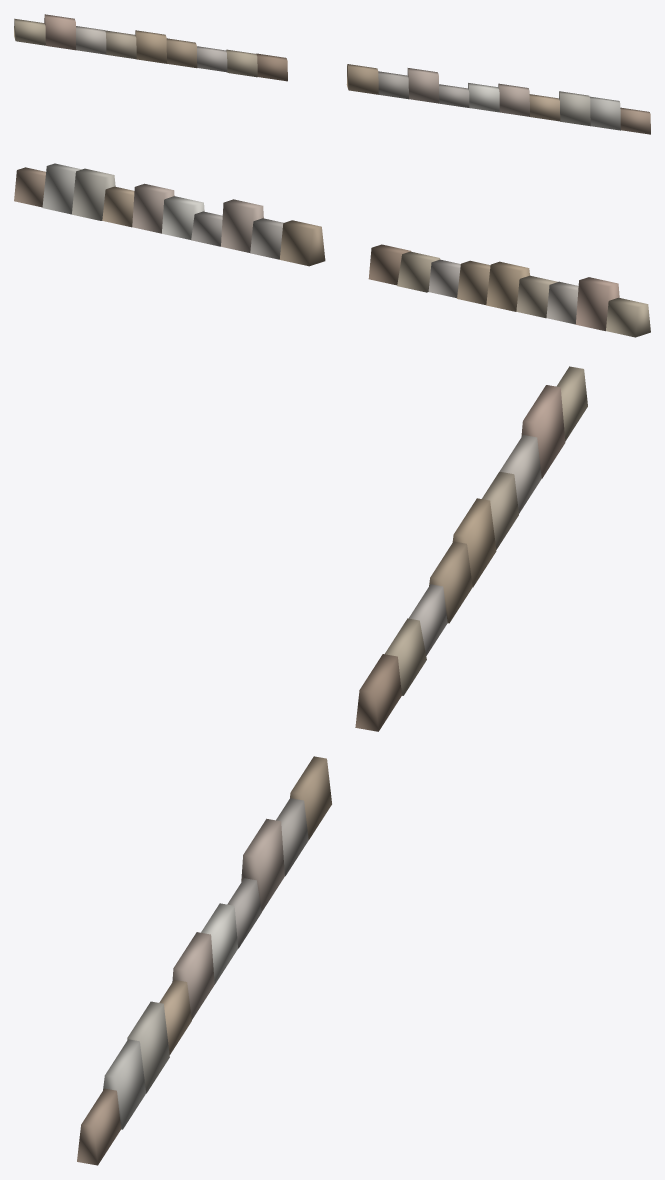
The model's file is farm_-10_2_collision.glb.
The picture shows the model from 3 angles, top to bottom: view 1: azimuth 30°, elevation 25°; view 2: azimuth 150°, elevation 25°; view 3: azimuth 270°, elevation 25°; orthographic projection. The views are drawn at different scales.
Visible parts, largest first — view 1: geometry_0; view 2: geometry_0; view 3: geometry_0.
Boxes of the visible parts, left/top/right/bottom form: geometry_0: left=14, top=14, right=650, bottom=134; geometry_0: left=14, top=163, right=650, bottom=337; geometry_0: left=77, top=366, right=587, bottom=1165.
Bounding box in the file's own units: 30.53 × 8.48 × 13.07.
